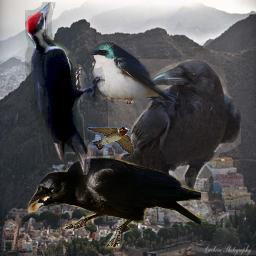Crow: (108, 59, 241, 222), (26, 156, 201, 249)
Swallow: (87, 41, 179, 104), (87, 127, 134, 154)
Woodpecker: (25, 2, 105, 175)
